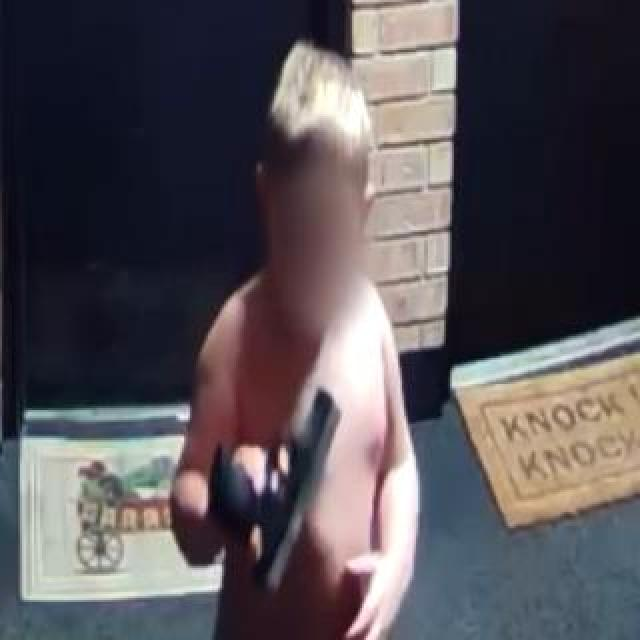Guns: (200, 376, 353, 598)
